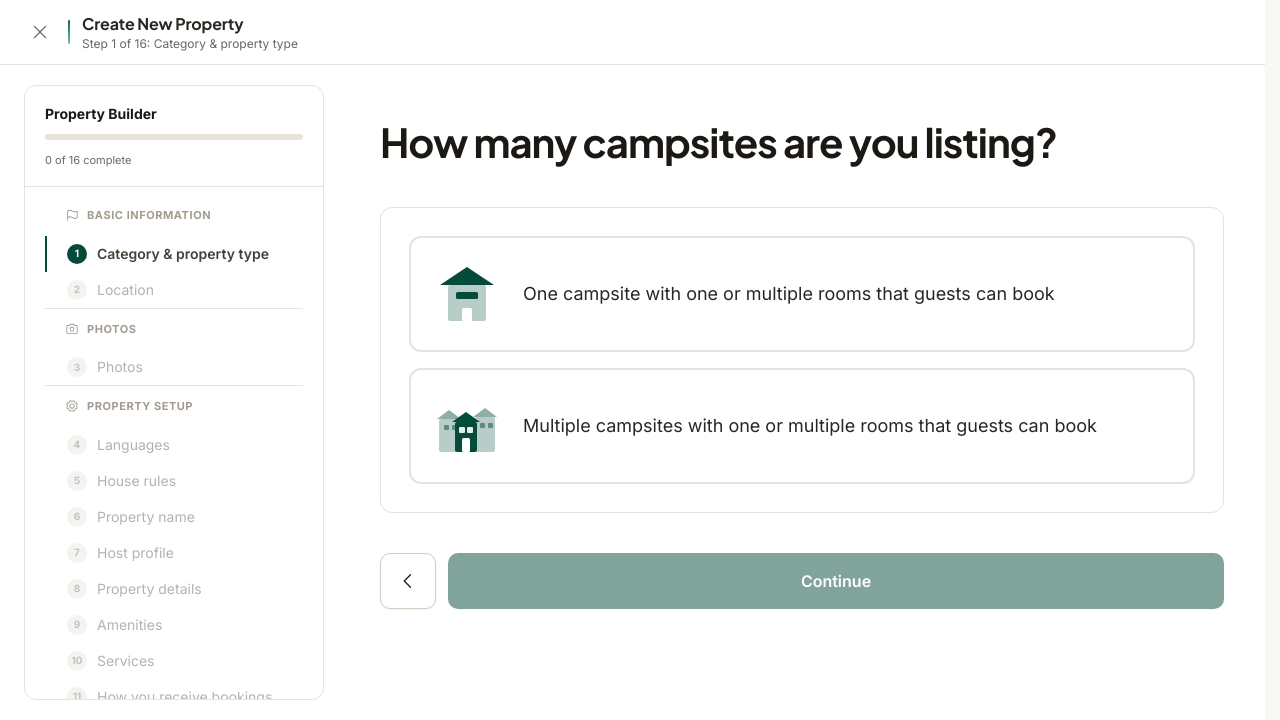
PropertyHomeCountPage — how many are you listing › goes back to the alternative category list for the alternative chain
The image size is (1280, 720).
Click the button named "Back" at (408, 581), box [380,553,436,609]
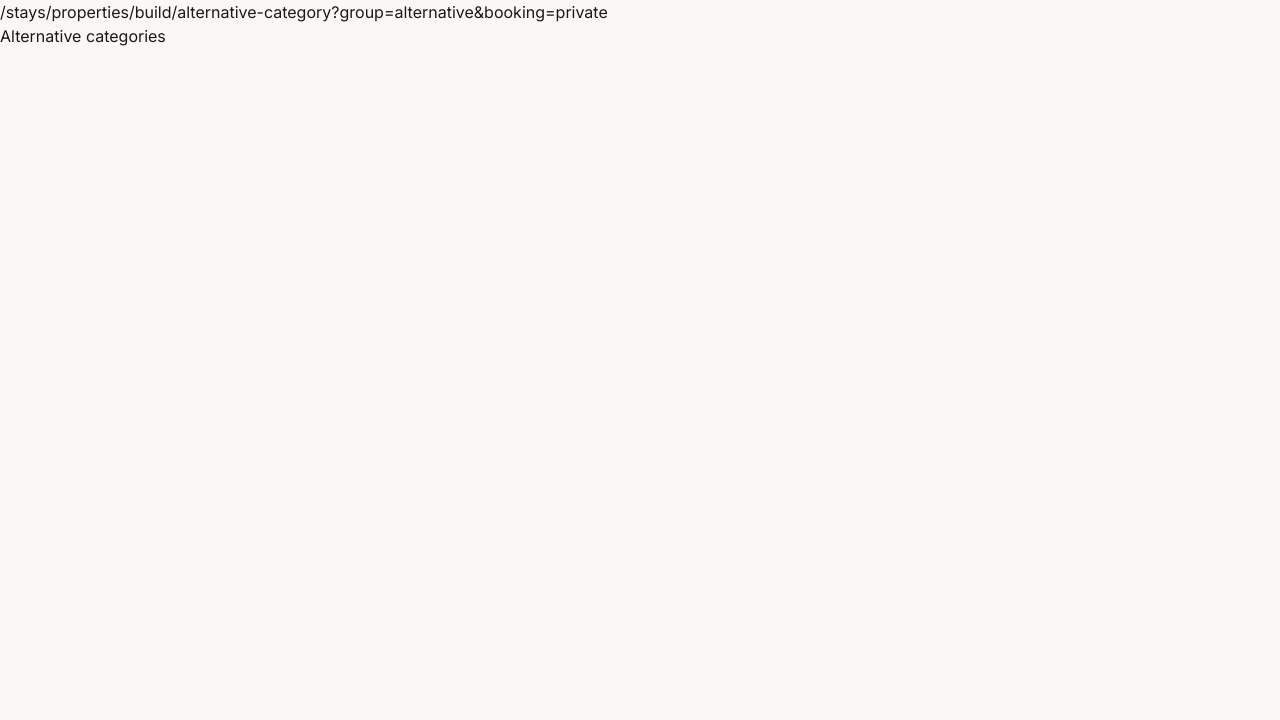
Check: the text with test id "location" reads "/stays/properties/build/alternative-category?group=alternative&booking=private", box [0,2,608,22]
